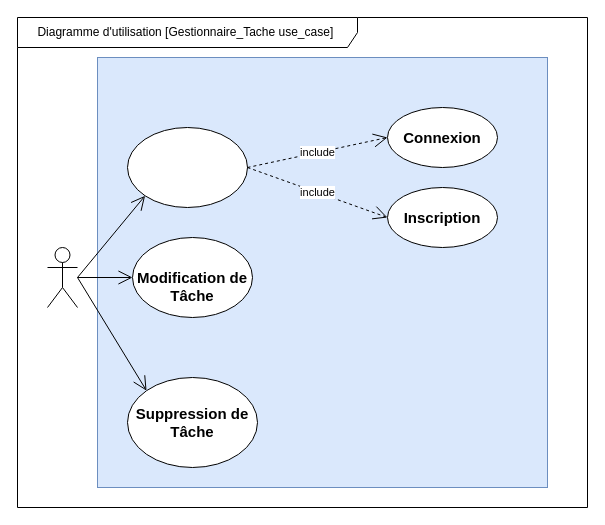
Image size: 605x525. Some labels were removed from this diagram. The box of each missing label's shape, as (x1, y1, x2, y2) in pixels:
Ajout de Tâche: (126, 126, 248, 208)
Utilisateur: (46, 246, 78, 308)
